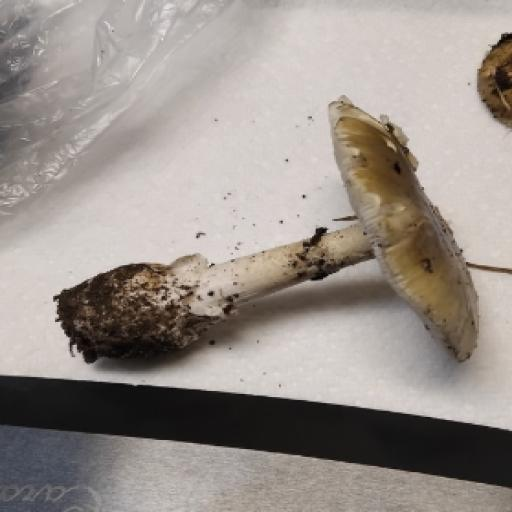Death Cap: (65, 107, 475, 363)
